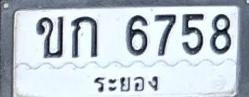5: (181, 13, 204, 55)
6: (126, 14, 148, 55)
7: (154, 13, 176, 56)
8: (210, 13, 231, 54)
A01: (71, 15, 98, 58)
A02: (36, 16, 64, 58)
RYG: (89, 70, 162, 95)
